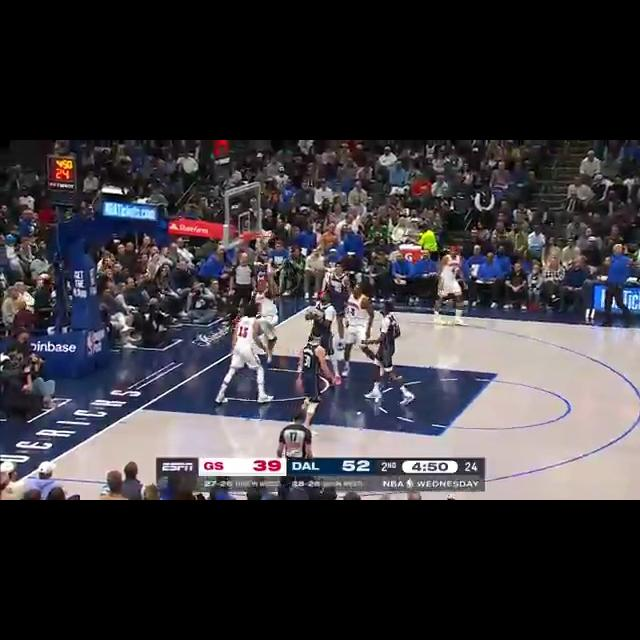Team-1-Player: (360, 299, 418, 406), (296, 330, 330, 422), (302, 288, 341, 360), (321, 259, 352, 301)
Team-2-Player: (212, 302, 276, 408), (343, 281, 383, 381), (432, 244, 468, 326), (242, 276, 286, 338)
